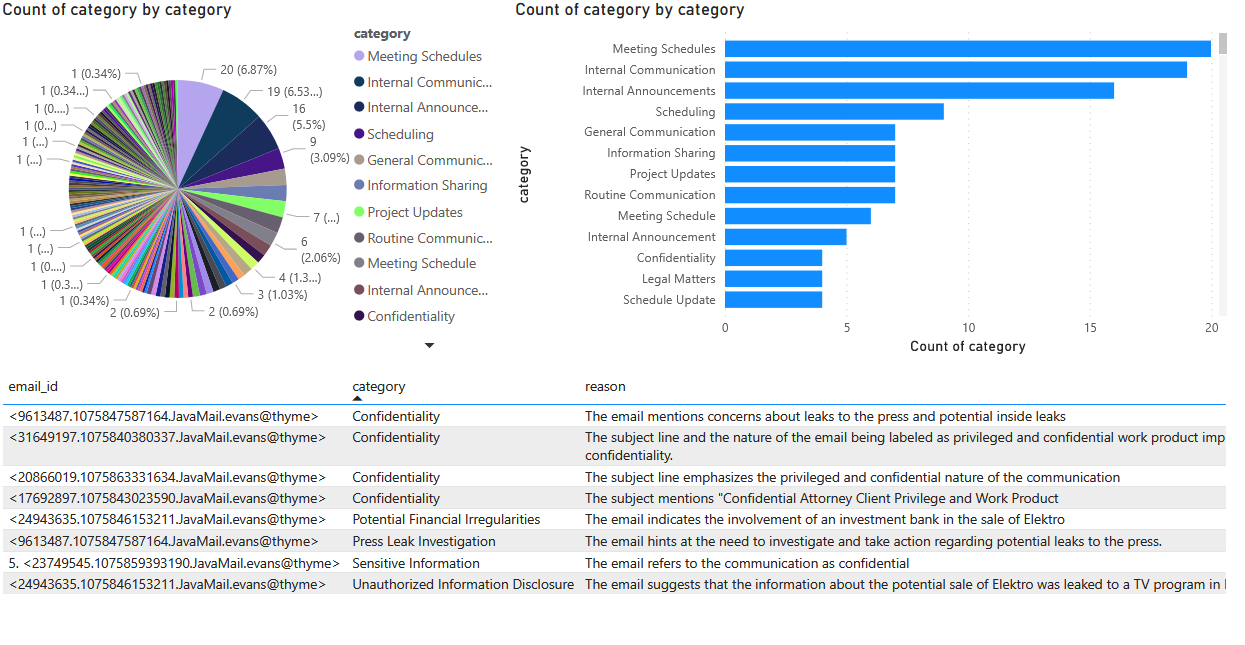

Layout of this report page (visuals, bound fields, positions):
{"tool":"powerbi","page":{"name":"Page 1","canvas":[1280,720],"ordinal":0},"visuals":[{"type":"pieChart","fields":{"Y":["CountNonNull(suspicious_emails_analysis_categories.category)"],"Category":["suspicious_emails_analysis_categories.category"]},"box":[9.9,0,499.5,350.5],"z":0},{"type":"tableEx","fields":{"Values":["suspicious_emails_analysis_categories.email_id","suspicious_emails_analysis_categories.category","suspicious_emails_analysis_categories.reason"]},"box":[9.9,361.5,1202.5,350.5],"z":1},{"type":"clusteredBarChart","fields":{"Category":["suspicious_emails_analysis_categories.category"],"Y":["CountNonNull(suspicious_emails_analysis_categories.category)"]},"box":[509,0,704,351],"z":2}]}

Visuals, with their boxes on the page's 1280x720 design canvas (x1, y1, x2, y2). These are canvas units, not pixel positions in the 1245x645 screenshot, which may show the page scaled, cropped or inside an application window:
pieChart - CountNonNull(suspicious_emails_analysis_categories.category) x suspicious_emails_analysis_categories.category: 10:0:509:350
tableEx - suspicious_emails_analysis_categories.email_id x suspicious_emails_analysis_categories.category: 10:362:1212:712
clusteredBarChart - suspicious_emails_analysis_categories.category x CountNonNull(suspicious_emails_analysis_categories.category): 509:0:1213:351
